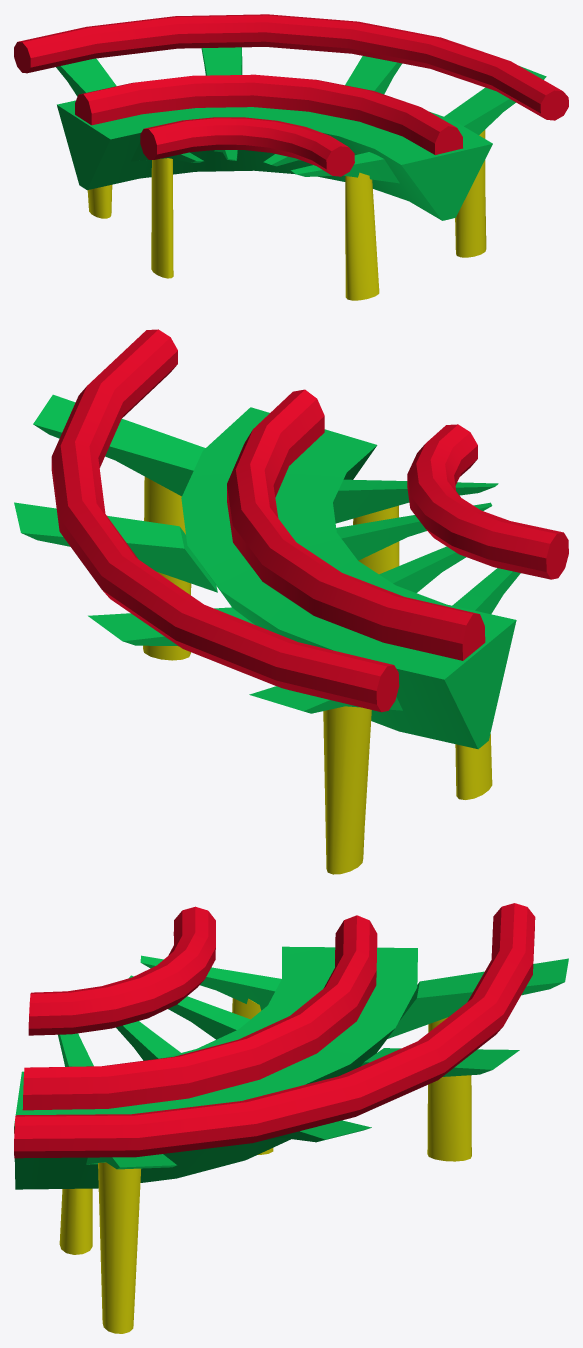
File: Rail_RightTurn_01.fbx
3 views of the same model, one above another, from view 1: azimuth 30°, elevation 25°; view 2: azimuth 150°, elevation 25°; view 3: azimuth 270°, elevation 25° (orthographic). The views are drawn at different scales.
Parts seen in each view (by area): view 1: Rail_Right; view 2: Rail_Right; view 3: Rail_Right.
Boxes of the visible parts, x1,y1,x2,y2 form: Rail_Right: (14, 14, 568, 300); Rail_Right: (14, 329, 568, 874); Rail_Right: (14, 903, 568, 1333).
Bounding box in the file's own units: 2.96 × 1.35 × 2.85.
